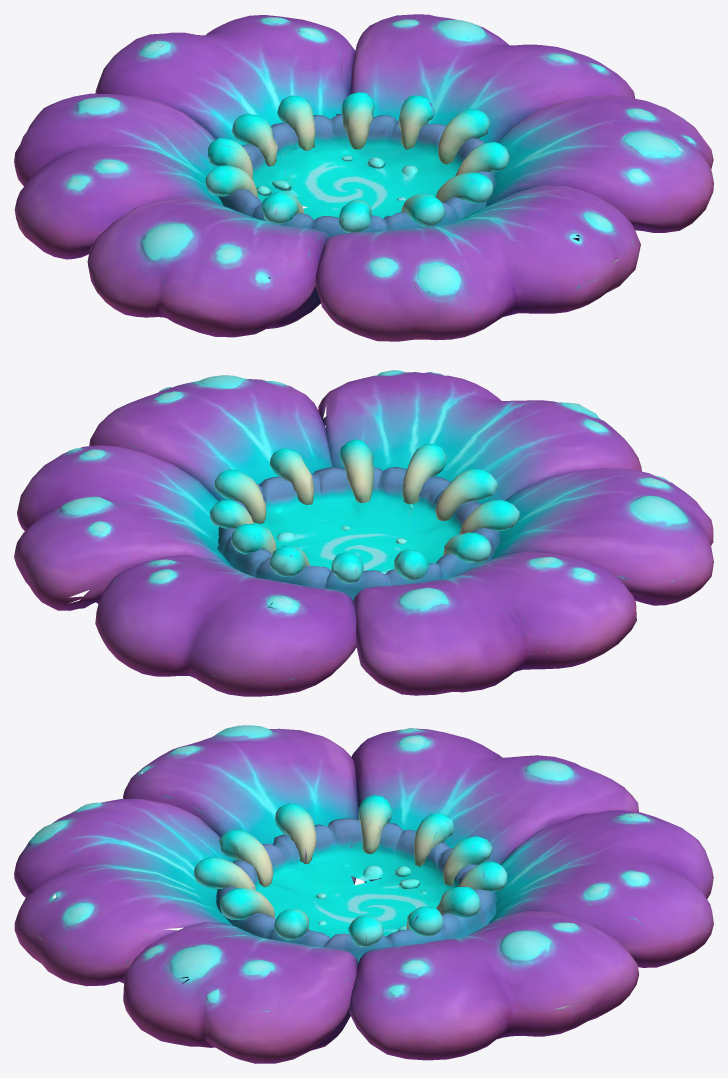
File: spore_flower.glb
3 views of the same model, one above another, from view 1: azimuth 30°, elevation 25°; view 2: azimuth 150°, elevation 25°; view 3: azimuth 270°, elevation 25° (orthographic).
Size of what is drawn, in the model's own units: 5.62 by 1 by 5.58.
Materials: 1 (1 with a texture image).
